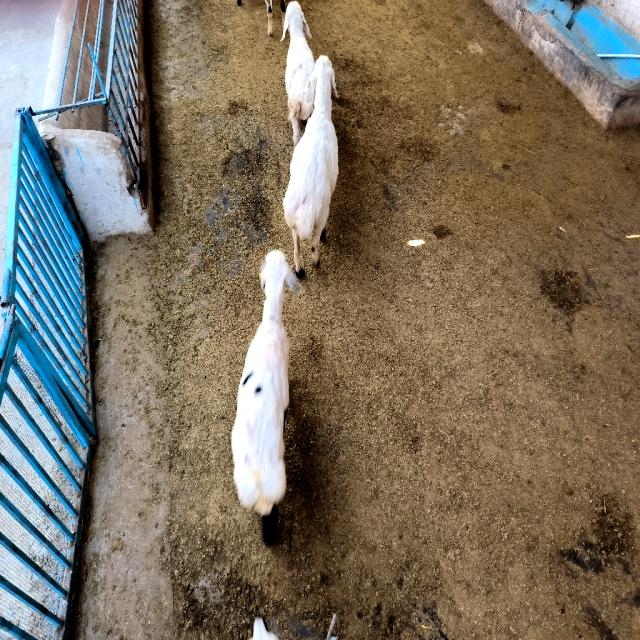sheep: (231, 250, 300, 545), (284, 55, 339, 277), (281, 2, 315, 144)
